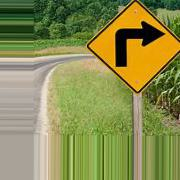right: (85, 1, 180, 91)
